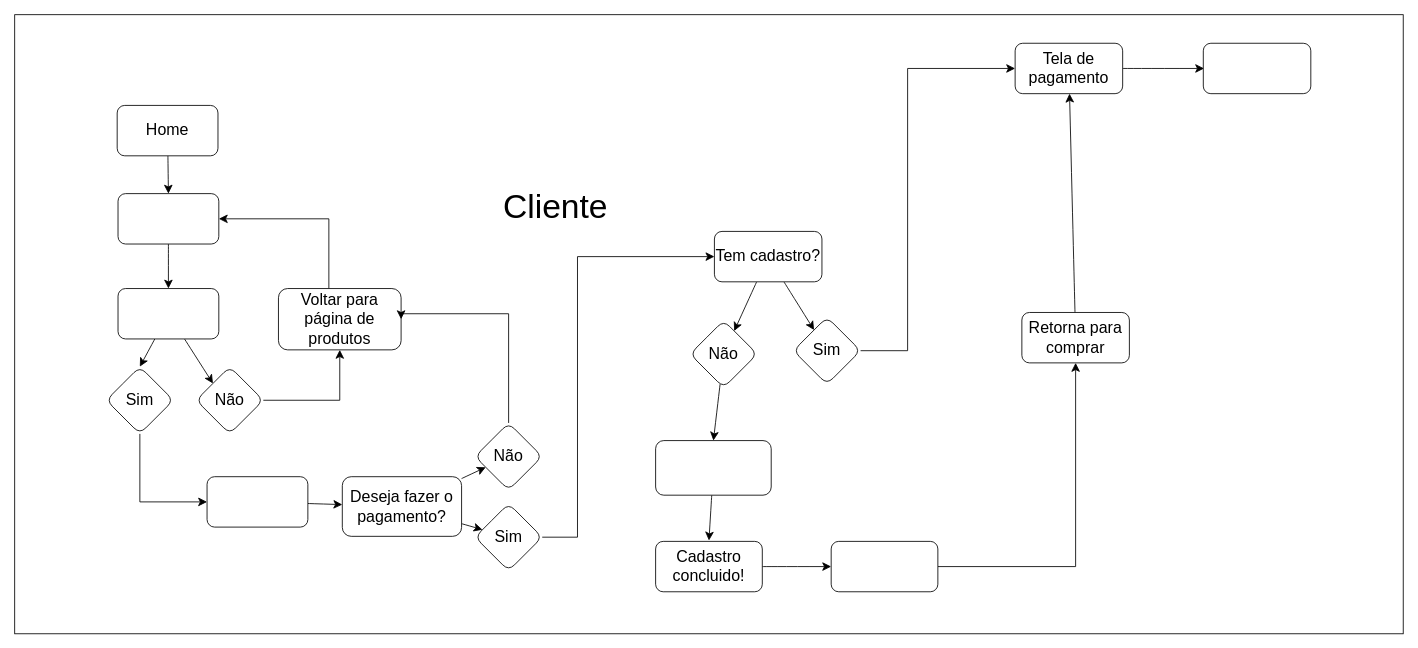
This 1418x648 diagram has some shape labels left out. Each missing label, with the box of its shape:
Carrinho de compras: (206, 476, 308, 527)
Conclusão da comprar: (1202, 42, 1311, 94)
Página de produtos: (117, 193, 219, 244)
Tela de cadastramento: (655, 440, 771, 495)
Tela de login: (830, 541, 938, 592)
Tem produto em estoque?: (117, 288, 219, 339)
